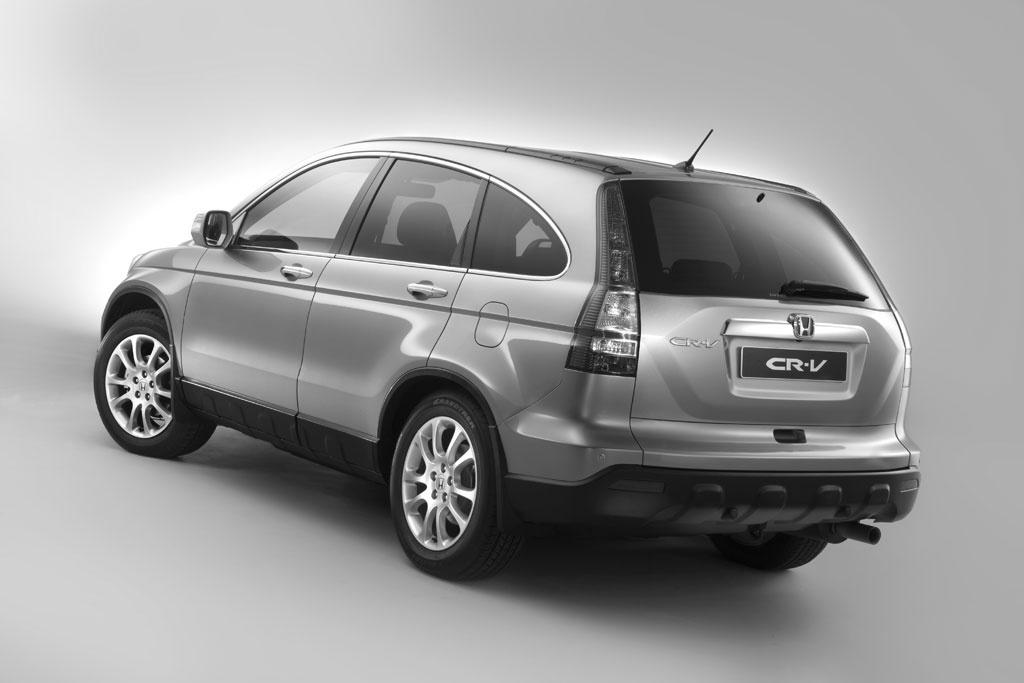Car boot: (607, 157, 917, 483)
Fender - -F-L-: (106, 230, 220, 387)
Fender - -R-L-: (416, 150, 615, 426)
Passenger-s door - -F-L-: (179, 131, 388, 476)
Passenger-s door - -R-L-: (284, 135, 491, 492)
Rear bumper: (489, 457, 928, 555)
Rear light - -L-: (562, 176, 643, 381)
Side bumper - -L-: (168, 372, 396, 486)
Side mirror - -L-: (189, 206, 238, 256)
